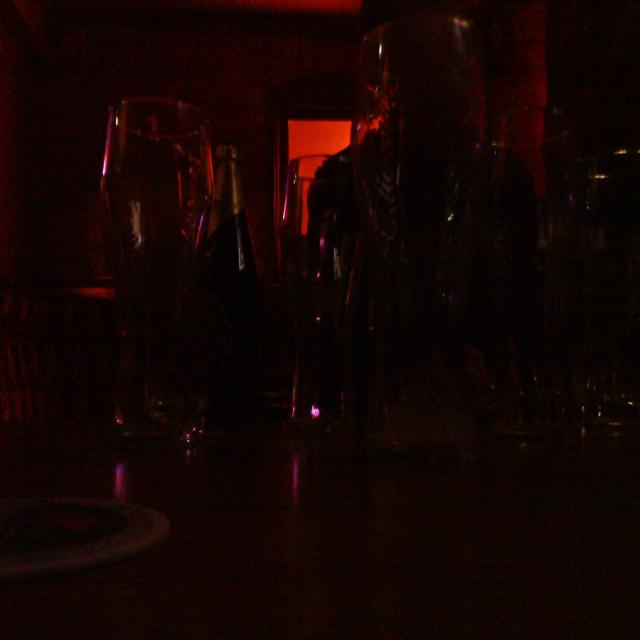Bottle: (203, 106, 268, 446)
Cup: (77, 76, 226, 476), (355, 7, 475, 474), (494, 87, 573, 454), (564, 99, 640, 474), (272, 144, 365, 428)
